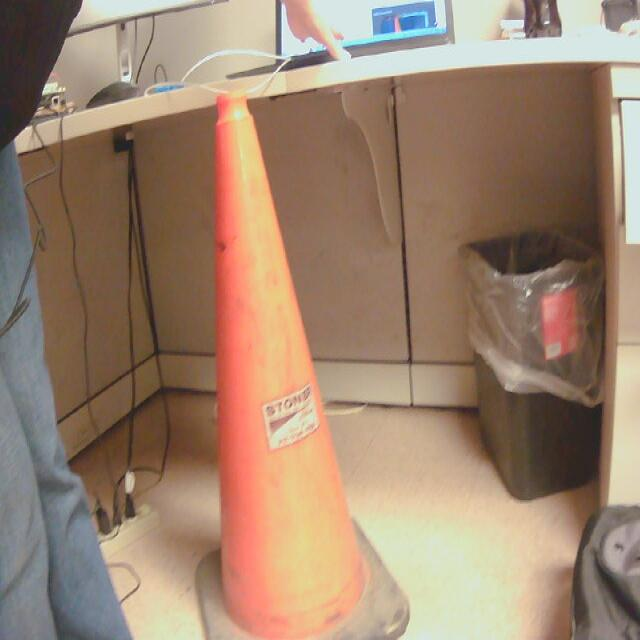traffic cone: (197, 97, 412, 640)
